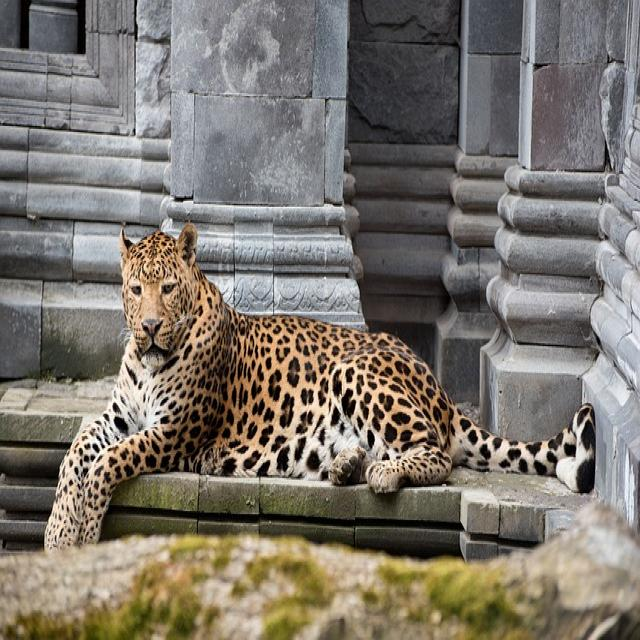Carnivorous: (43, 223, 593, 549)
